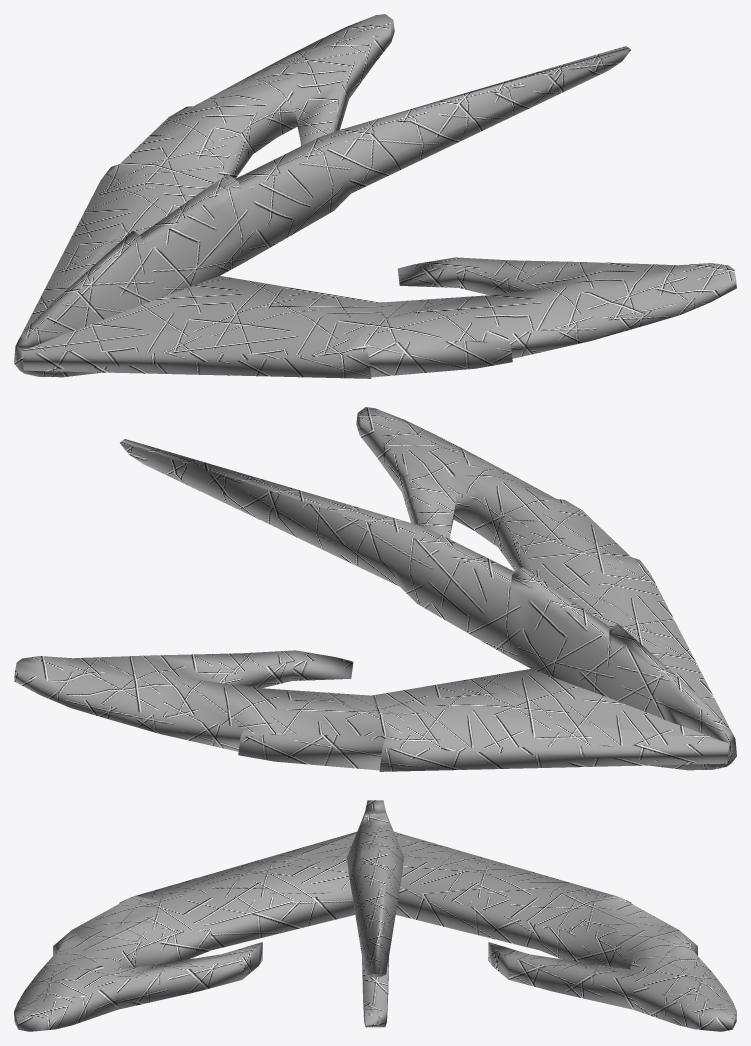
File: scv04.obj
3 views of the same model, one above another, from view 1: azimuth 30°, elevation 25°; view 2: azimuth 150°, elevation 25°; view 3: azimuth 270°, elevation 25° (orthographic).
Parts seen in each view (by area): view 1: SCV040; view 2: SCV040; view 3: SCV040.
Part boxes in pixels (x1,y1,x2,y2): SCV040: (14,14,736,378); SCV040: (14,407,736,771); SCV040: (14,800,736,1031).
Bounding box in the file's own units: 167 × 53.42 × 172.
Materials: 1 (1 with a texture image).
